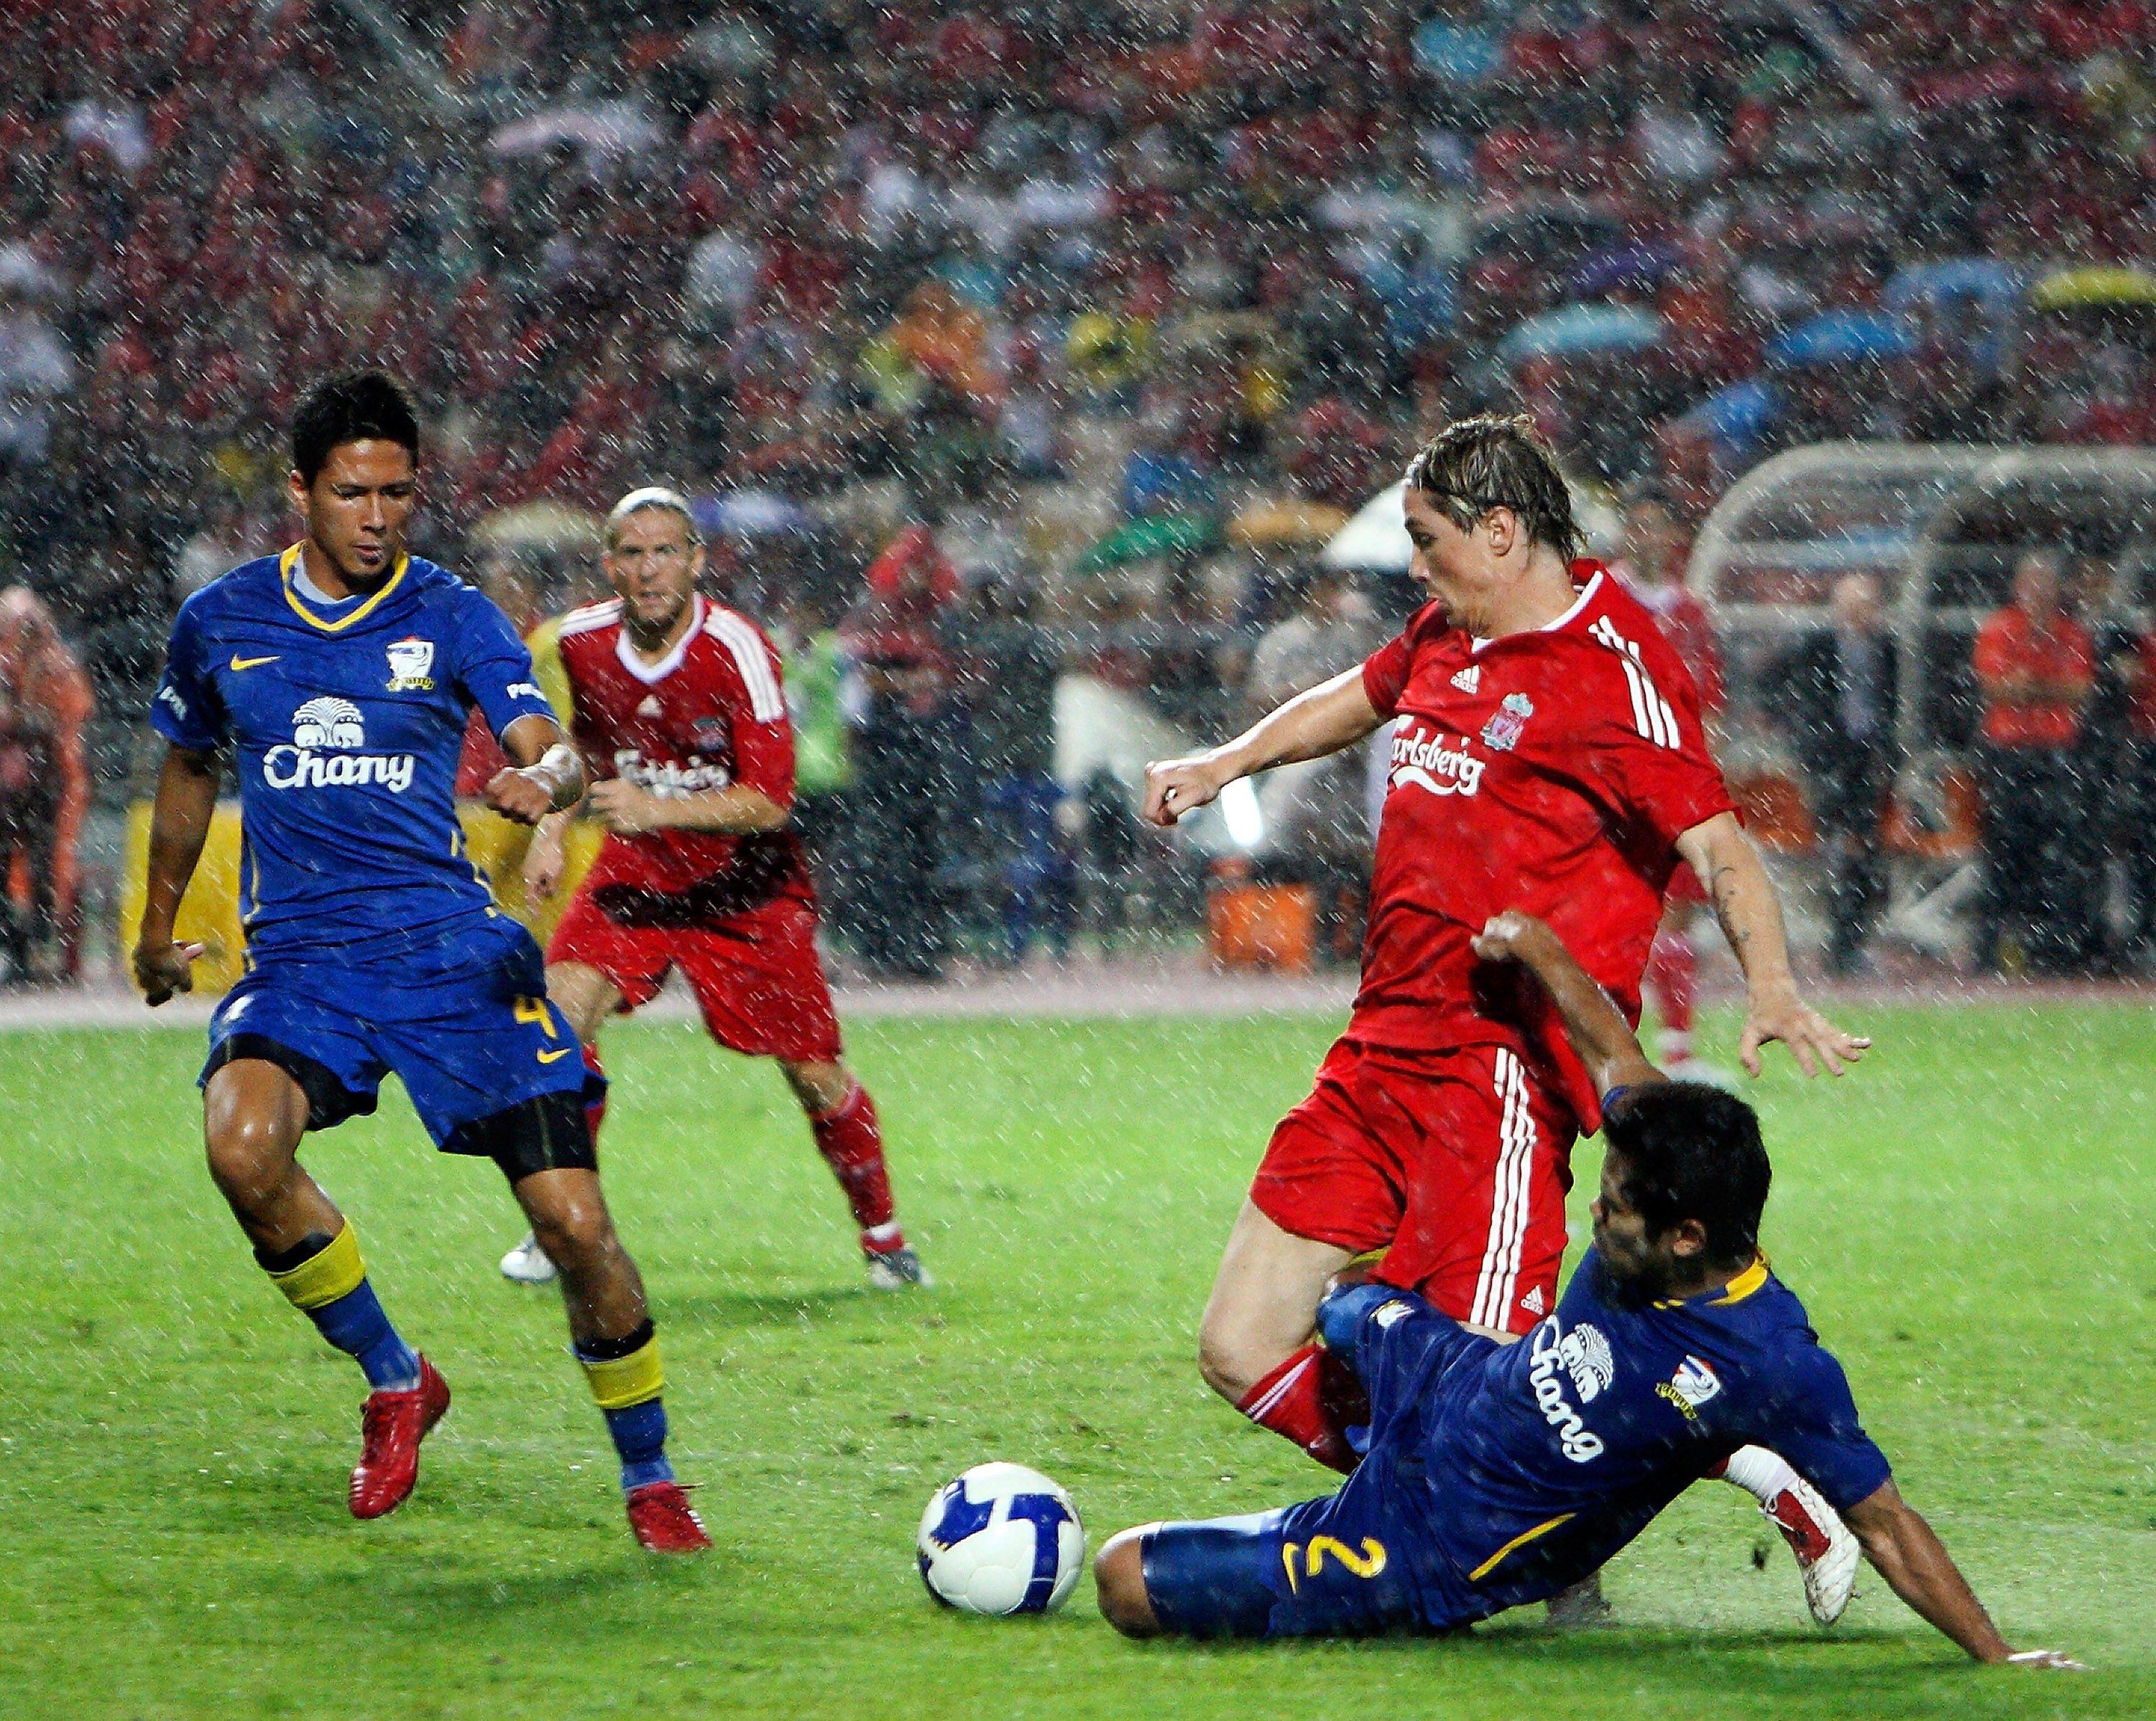falling: (1097, 931, 2126, 1674)
